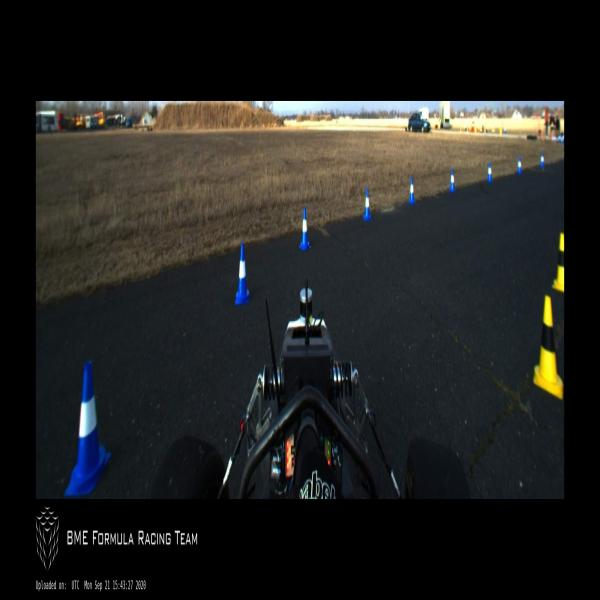blue_cone: (63, 360, 111, 497), (235, 244, 250, 305), (298, 206, 311, 250), (362, 186, 372, 221), (408, 177, 415, 205), (448, 169, 456, 192), (486, 162, 492, 183), (516, 157, 522, 175), (540, 153, 544, 167)
yellow_cone: (533, 296, 564, 400), (552, 232, 564, 296)
